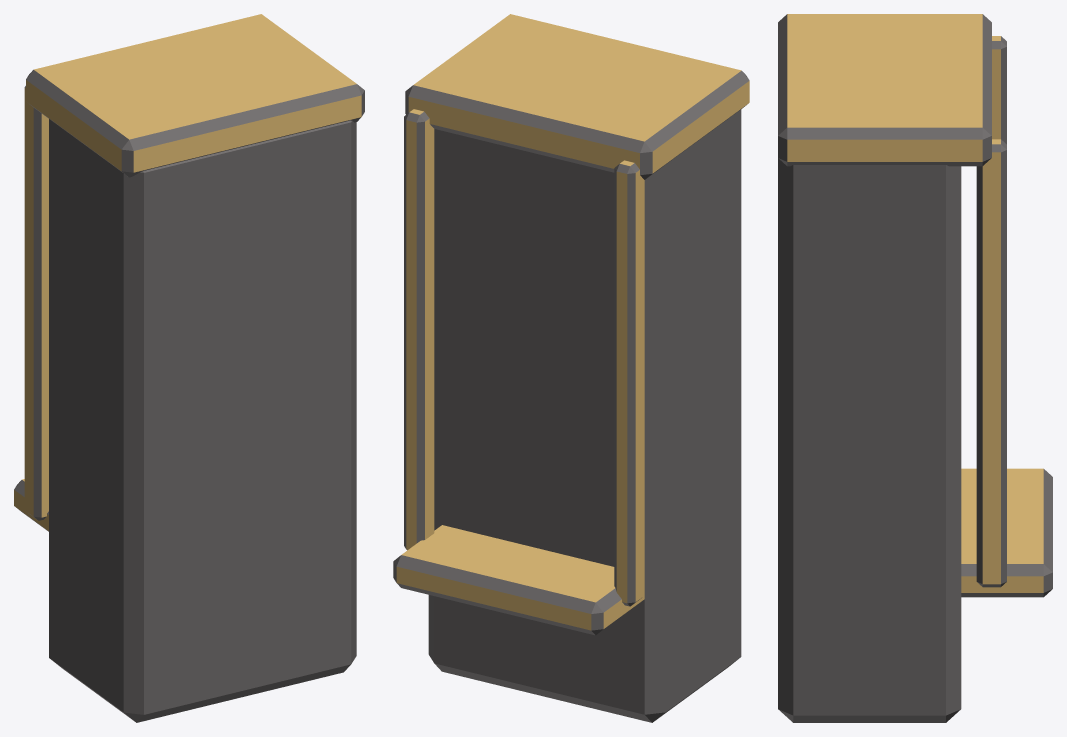
The model's file is CO_Bay.fbx.
3 renders of one model, left to right at view 1: azimuth 30°, elevation 25°; view 2: azimuth 150°, elevation 25°; view 3: azimuth 270°, elevation 25°, orthographic. The views are drawn at different scales.
Parts seen in each view (by area): view 1: CO_Bay; view 2: CO_Bay; view 3: CO_Bay.
Boxes of the visible parts, x1=… form: CO_Bay: x1=14, y1=14, x2=364, y2=722; CO_Bay: x1=393, y1=14, x2=749, y2=722; CO_Bay: x1=778, y1=14, x2=1052, y2=722.
Bounding box in the file's own units: 0.94 × 2.17 × 0.9.
